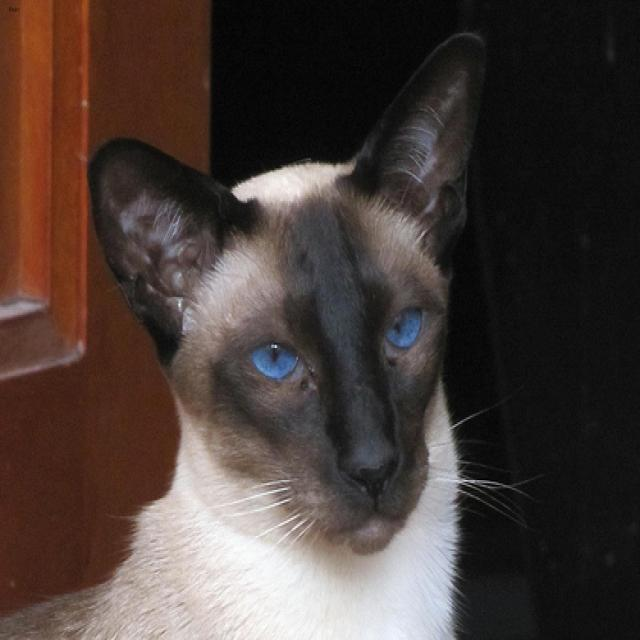Siamese: (83, 29, 495, 557)
